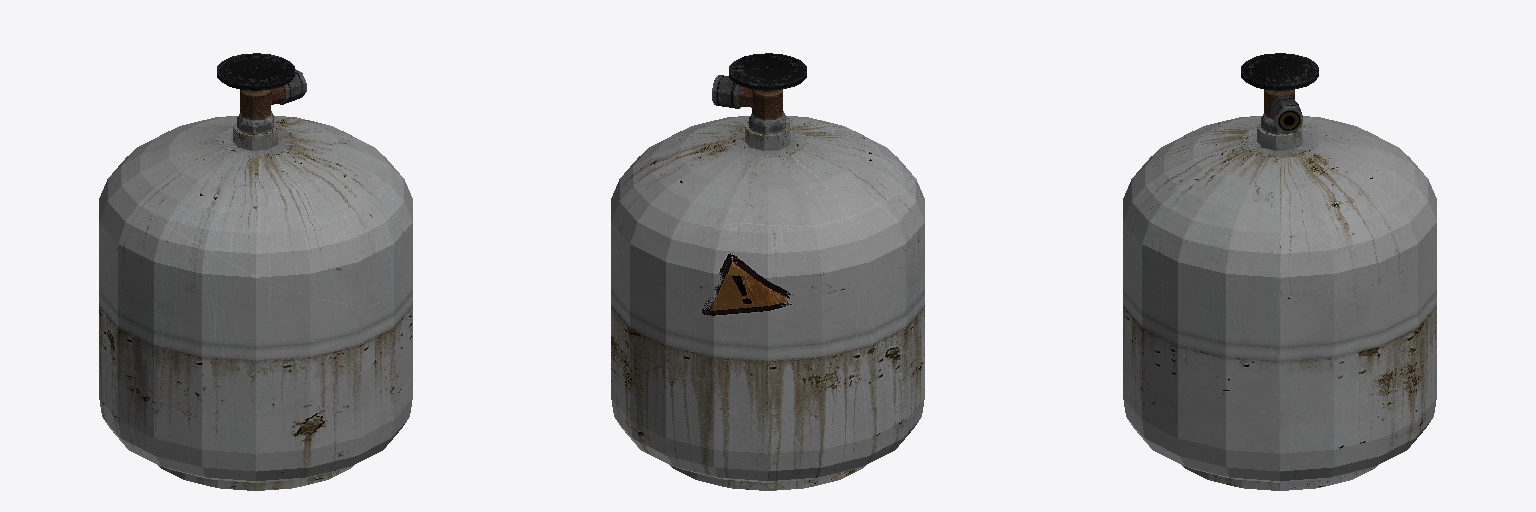
3 views of the same model, side by side, from view 1: azimuth 30°, elevation 25°; view 2: azimuth 150°, elevation 25°; view 3: azimuth 270°, elevation 25° (orthographic).
Parts seen in each view (by area): view 1: Gaz_tank; view 2: Gaz_tank; view 3: Gaz_tank.
Boxes of the visible parts, x1,y1,x2,y2 form: Gaz_tank: [99, 53, 412, 490]; Gaz_tank: [611, 53, 924, 490]; Gaz_tank: [1123, 53, 1436, 490].
Bounding box in the file's own units: 100 × 130 × 98.48.
Materials: 1 (1 with a texture image).